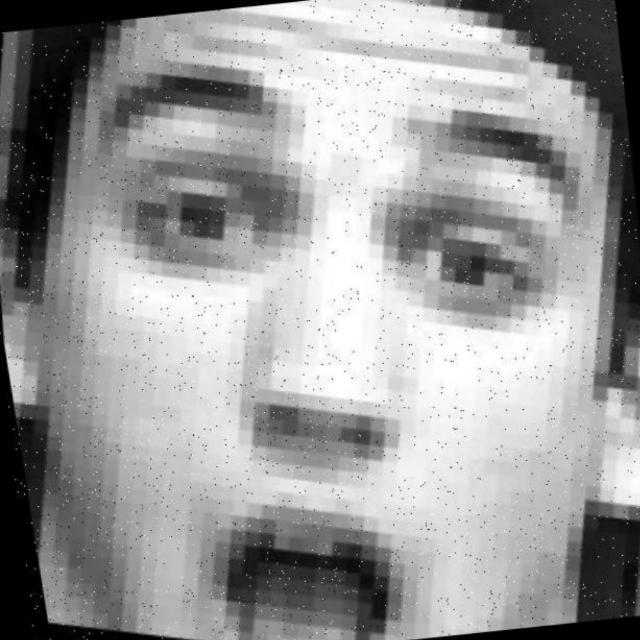Surprised: (26, 44, 640, 640)
